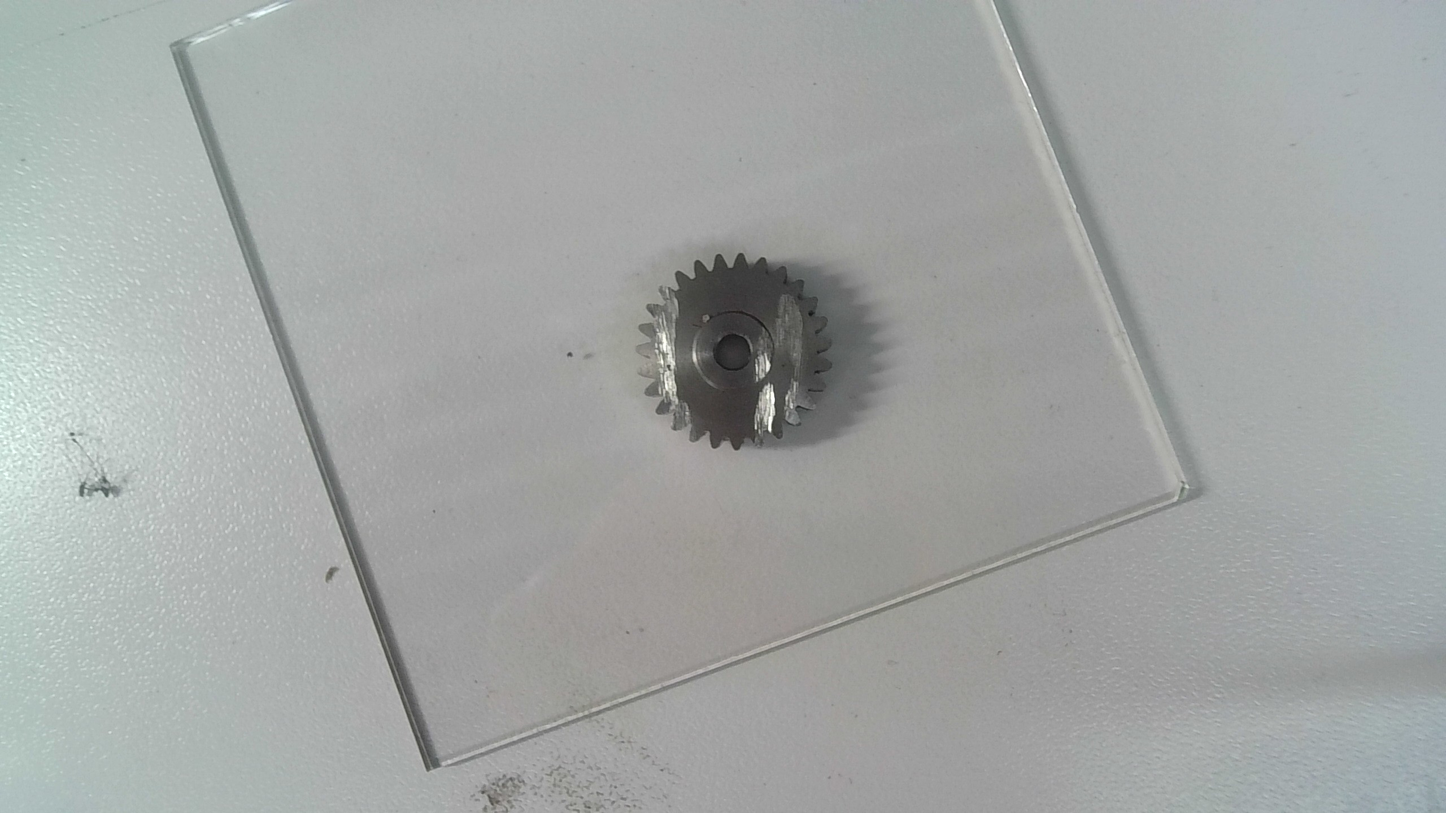gear: (631, 250, 837, 455)
